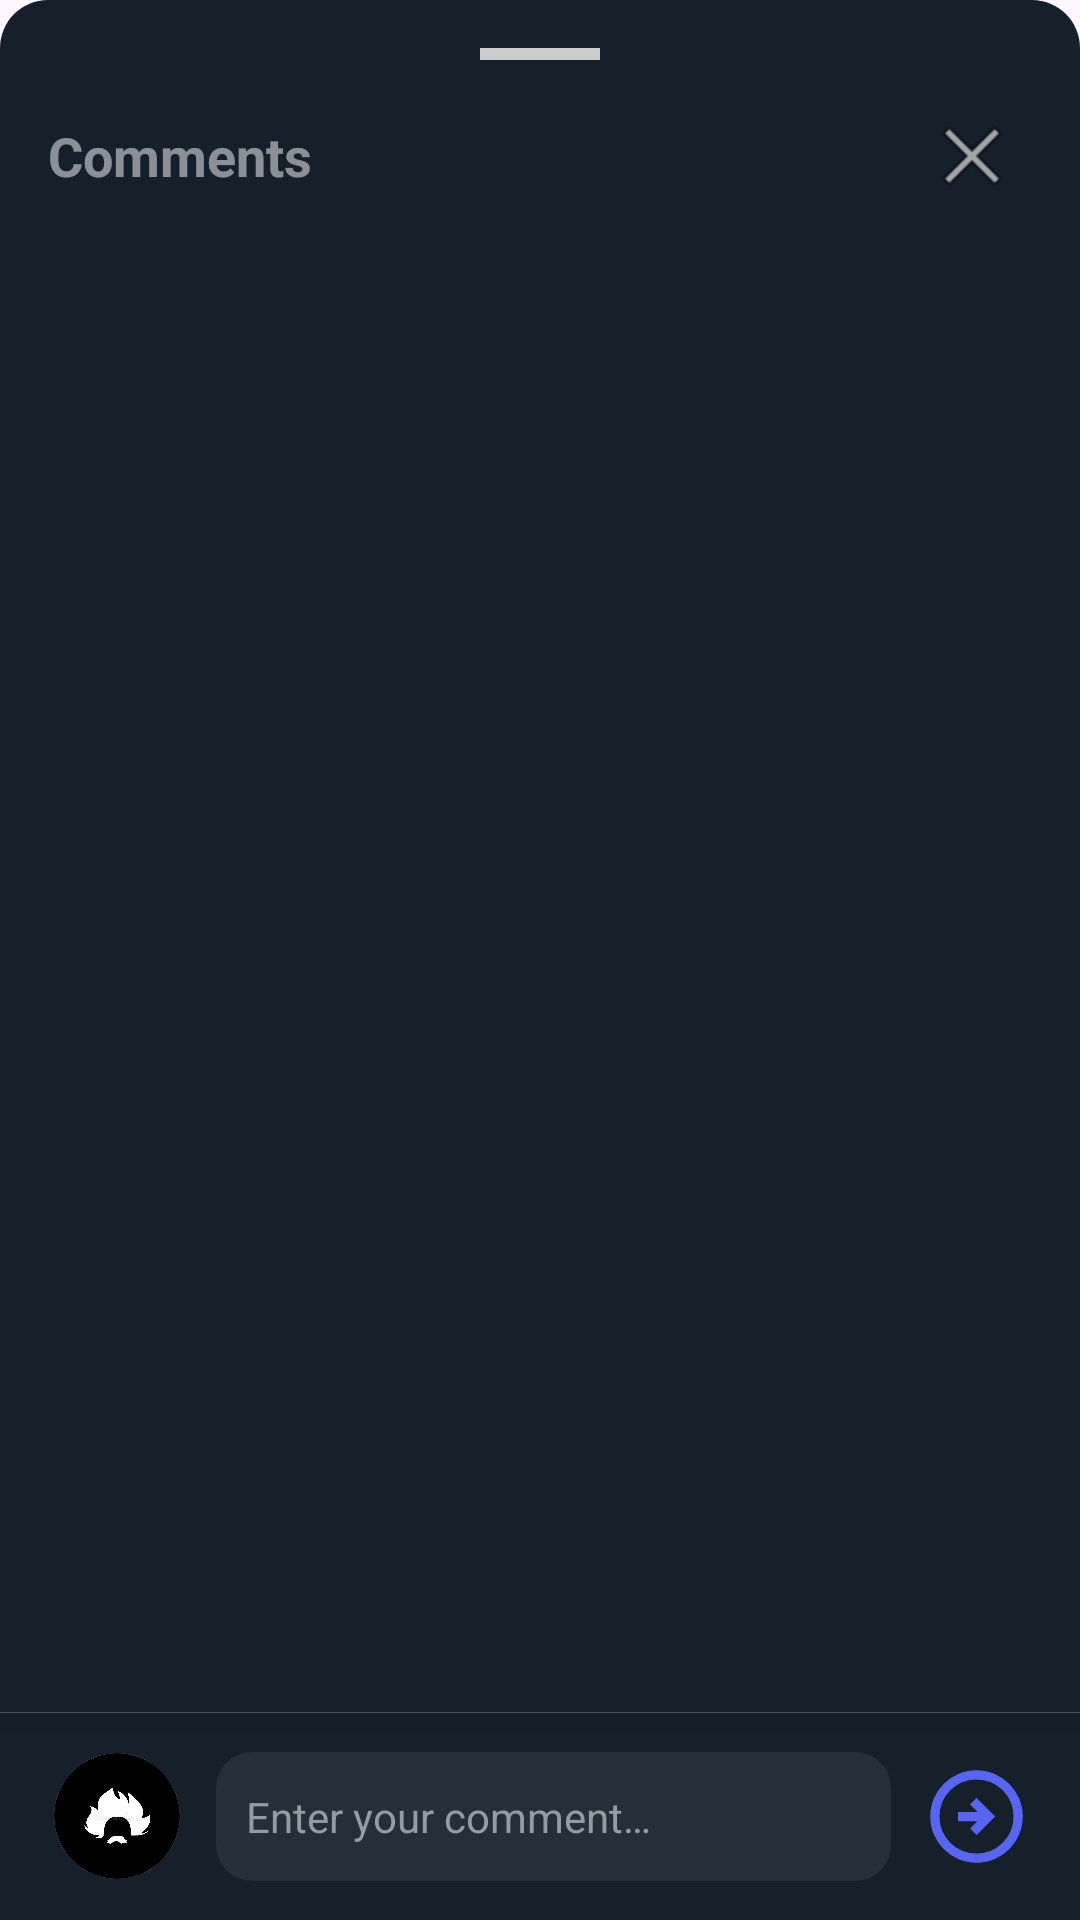

Where icons sit on this 1080px×1920px app screen, as (x1, y1, x2, y2):
arrow circle right: (930, 1770, 1023, 1863)
close clear cancel: (945, 129, 999, 183)
